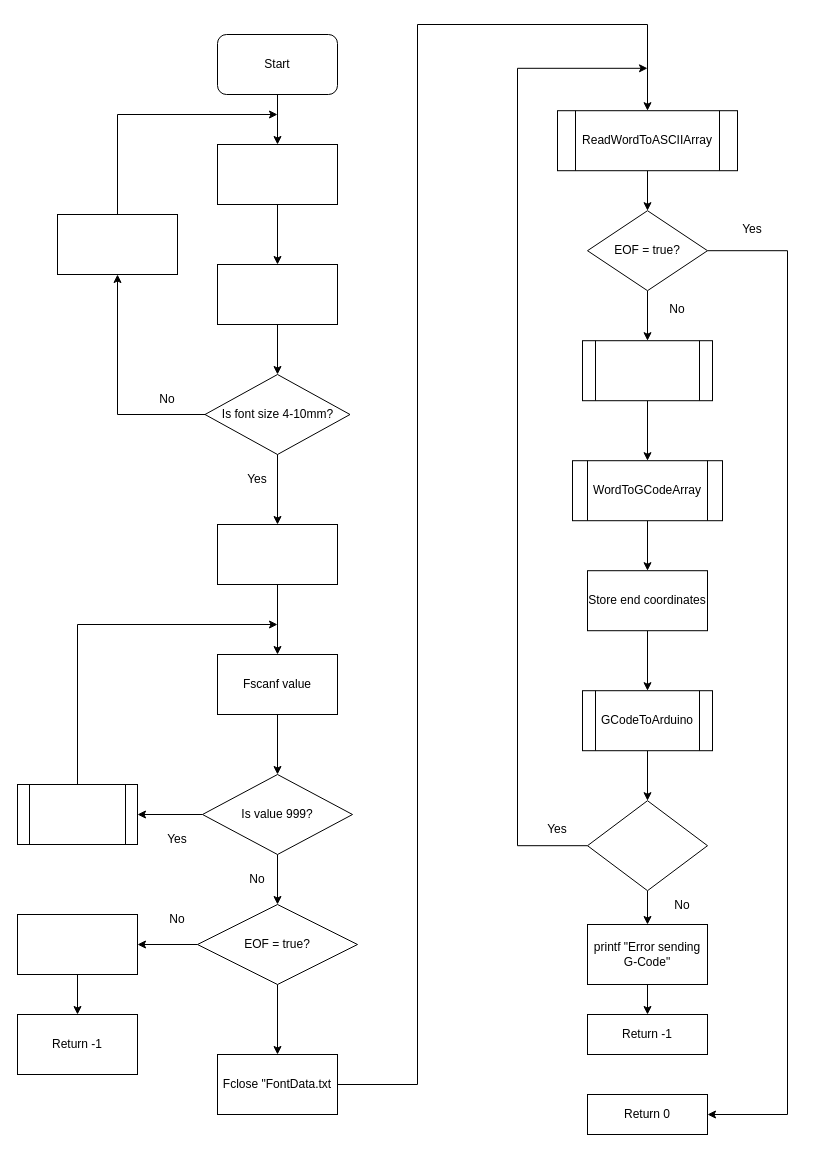
Some shapes in this 813 by 1152 pixel diagram are drawn without their labels. The centre of each missing label's shape, as x and y in pixels:
Arduino acknowledge = Ok?: point (647, 845)
FontDataToStruct: point (77, 814)
Fopen "FontData.txt": point (277, 554)
printf "Error reading font data": point (77, 944)
printf "font size outside range": point (117, 244)
Prompt user to enter font size between 4-10mm: point (277, 174)
Read input size as integer: point (277, 294)
WordOriginOffset: point (647, 370)
